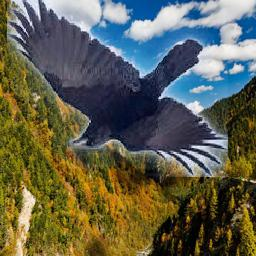Crow: (8, 1, 229, 178)
